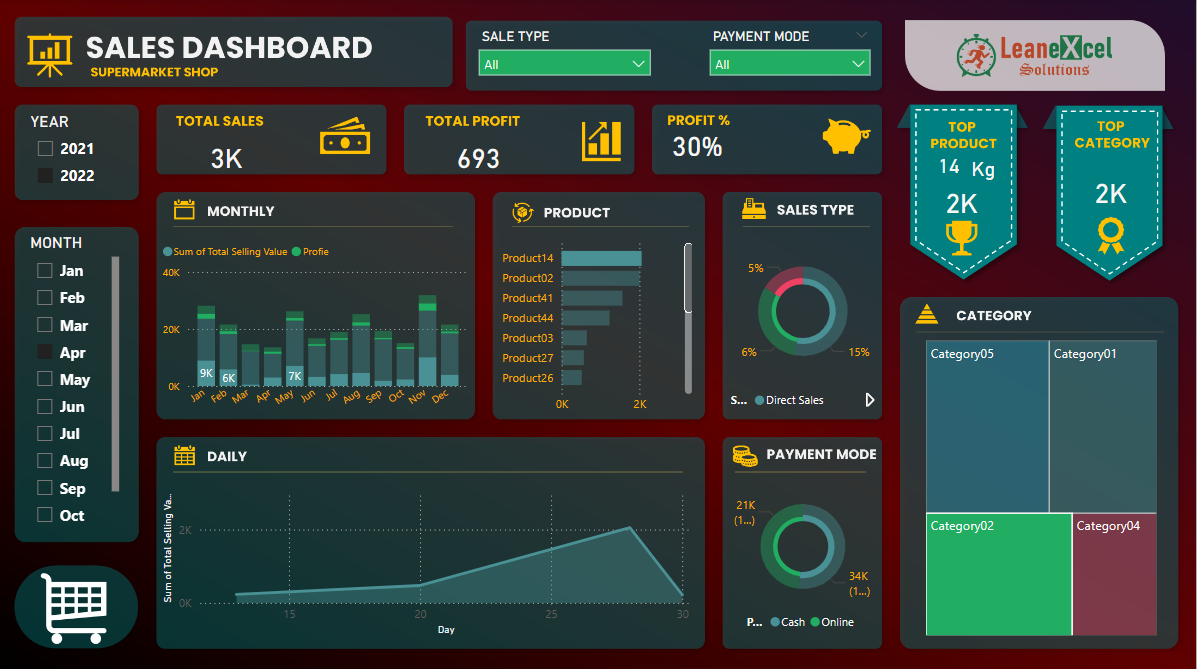

This screenshot's page, from the dashboard's own definition file:
{"tool":"powerbi","page":{"name":"Page 1","canvas":[1280,720],"ordinal":0},"visuals":[{"type":"slicer","title":"YEAR","fields":{"Values":["InputData.Year"]},"box":[31,122.2,105,87.8],"z":0},{"type":"slicer","fields":{"Values":["InputData.SALE TYPE"]},"box":[504.3,27.5,203.1,65.4],"z":1000},{"type":"slicer","fields":{"Values":["InputData.PAYMENT MODE"]},"box":[750.5,27.5,191.1,65.4],"z":2000},{"type":"slicer","title":"MONTH","fields":{"Values":["InputData.Month Name"]},"box":[31,251.3,105,325.3],"z":3000},{"type":"card","fields":{"Values":["Sum(InputData.Total Selling Value)"]},"box":[172.1,146.3,146.3,46.5],"z":4000},{"type":"card","fields":{"Values":["InputData.Profit %"]},"box":[707.4,139.4,79.2,34.4],"z":5000},{"type":"card","fields":{"Values":["InputData.Profie"]},"box":[440.6,146.3,146.3,46.5],"z":6000},{"type":"card","fields":{"Values":["Sum(InputData.Total Selling Value)"]},"box":[986.3,192.8,86.1,49.9],"z":7000},{"type":"card","fields":{"Values":["Sum(InputData.QUANTITY)"]},"box":[986.3,153.2,58.5,49.9],"z":8000},{"type":"card","fields":{"Values":["Sum(InputData.Total Selling Value)"]},"box":[1136,167,106.7,80.9],"z":9000},{"type":"card","fields":{"Values":["Min(InputData.MasterData.UOM)"]},"box":[1032.7,160.1,39.6,43],"z":10000},{"type":"columnChart","fields":{"Category":["InputData.Month Name"],"Y":["Sum(InputData.Total Selling Value)","InputData.Profie"]},"box":[172.1,251.3,335.6,194.5],"z":11000},{"type":"clusteredBarChart","fields":{"Y":["Sum(InputData.Total Selling Value)"],"Category":["InputData.MasterData.PRODUCT"]},"box":[528.4,247.9,218.6,203.1],"z":12000},{"type":"areaChart","fields":{"Y":["Sum(InputData.Total Selling Value)"],"Category":["InputData.Day"]},"box":[172.1,514.6,574.9,170.4],"z":13000},{"type":"donutChart","fields":{"Category":["InputData.SALE TYPE"],"Y":["Sum(InputData.Total Selling Value)"]},"box":[778,247.9,163.5,199.7],"z":14000},{"type":"donutChart","fields":{"Category":["InputData.PAYMENT MODE"],"Y":["Sum(InputData.Total Selling Value)"]},"box":[778,514.6,163.5,170.4],"z":15000},{"type":"treemap","fields":{"Values":["Sum(InputData.Total Selling Value)"],"Group":["InputData.MasterData.CATEGORY"]},"box":[986.3,359.7,256.5,325.3],"z":16000}]}

Visuals, with their boxes in screenshot pixels (x1, y1, x2, y2), scaled from the page's 1280x720 canvas onto the 1197x669 screenshot:
"YEAR" slicer: (left=29, top=114, right=127, bottom=195)
slicer - InputData.SALE TYPE: (left=472, top=26, right=662, bottom=86)
slicer - InputData.PAYMENT MODE: (left=702, top=26, right=881, bottom=86)
"MONTH" slicer: (left=29, top=233, right=127, bottom=536)
card - Sum(InputData.Total Selling Value): (left=161, top=136, right=298, bottom=179)
card - InputData.Profit %: (left=662, top=130, right=736, bottom=161)
card - InputData.Profie: (left=412, top=136, right=549, bottom=179)
card - Sum(InputData.Total Selling Value): (left=922, top=179, right=1003, bottom=226)
card - Sum(InputData.QUANTITY): (left=922, top=142, right=977, bottom=189)
card - Sum(InputData.Total Selling Value): (left=1062, top=155, right=1162, bottom=230)
card - Min(InputData.MasterData.UOM): (left=966, top=149, right=1003, bottom=189)
columnChart - InputData.Month Name x Sum(InputData.Total Selling Value): (left=161, top=233, right=475, bottom=414)
clusteredBarChart - Sum(InputData.Total Selling Value) x InputData.MasterData.PRODUCT: (left=494, top=230, right=699, bottom=419)
areaChart - Sum(InputData.Total Selling Value) x InputData.Day: (left=161, top=478, right=699, bottom=636)
donutChart - InputData.SALE TYPE x Sum(InputData.Total Selling Value): (left=728, top=230, right=880, bottom=416)
donutChart - InputData.PAYMENT MODE x Sum(InputData.Total Selling Value): (left=728, top=478, right=880, bottom=636)
treemap - Sum(InputData.Total Selling Value) x InputData.MasterData.CATEGORY: (left=922, top=334, right=1162, bottom=636)
